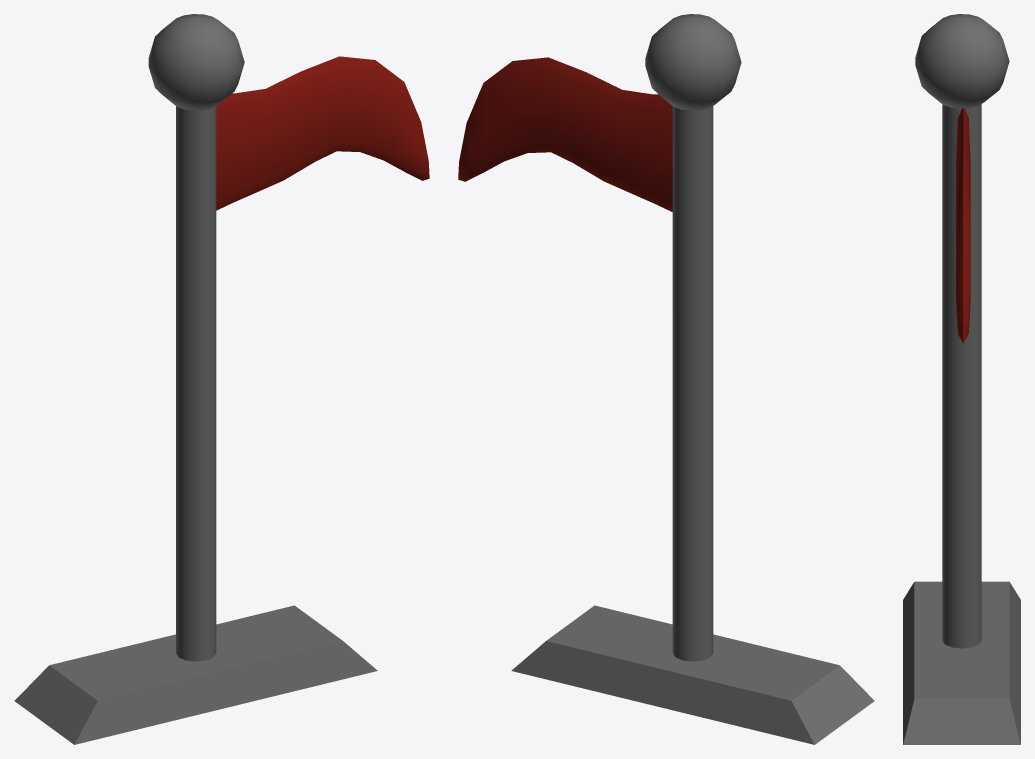
Rendered from flag.glb.
The picture shows the model from 3 angles, left to right: view 1: azimuth 30°, elevation 25°; view 2: azimuth 150°, elevation 25°; view 3: azimuth 270°, elevation 25°; orthographic projection. The views are drawn at different scales.
Visible parts, largest first — view 1: Goal_Flag; view 2: Goal_Flag; view 3: Goal_Flag.
Boxes of the visible parts, x1=… form: Goal_Flag: x1=14, y1=14, x2=429, y2=744; Goal_Flag: x1=458, y1=14, x2=874, y2=744; Goal_Flag: x1=903, y1=14, x2=1020, y2=744.
Size of the model in its own units: 1.41 by 2.33 by 0.3803.
